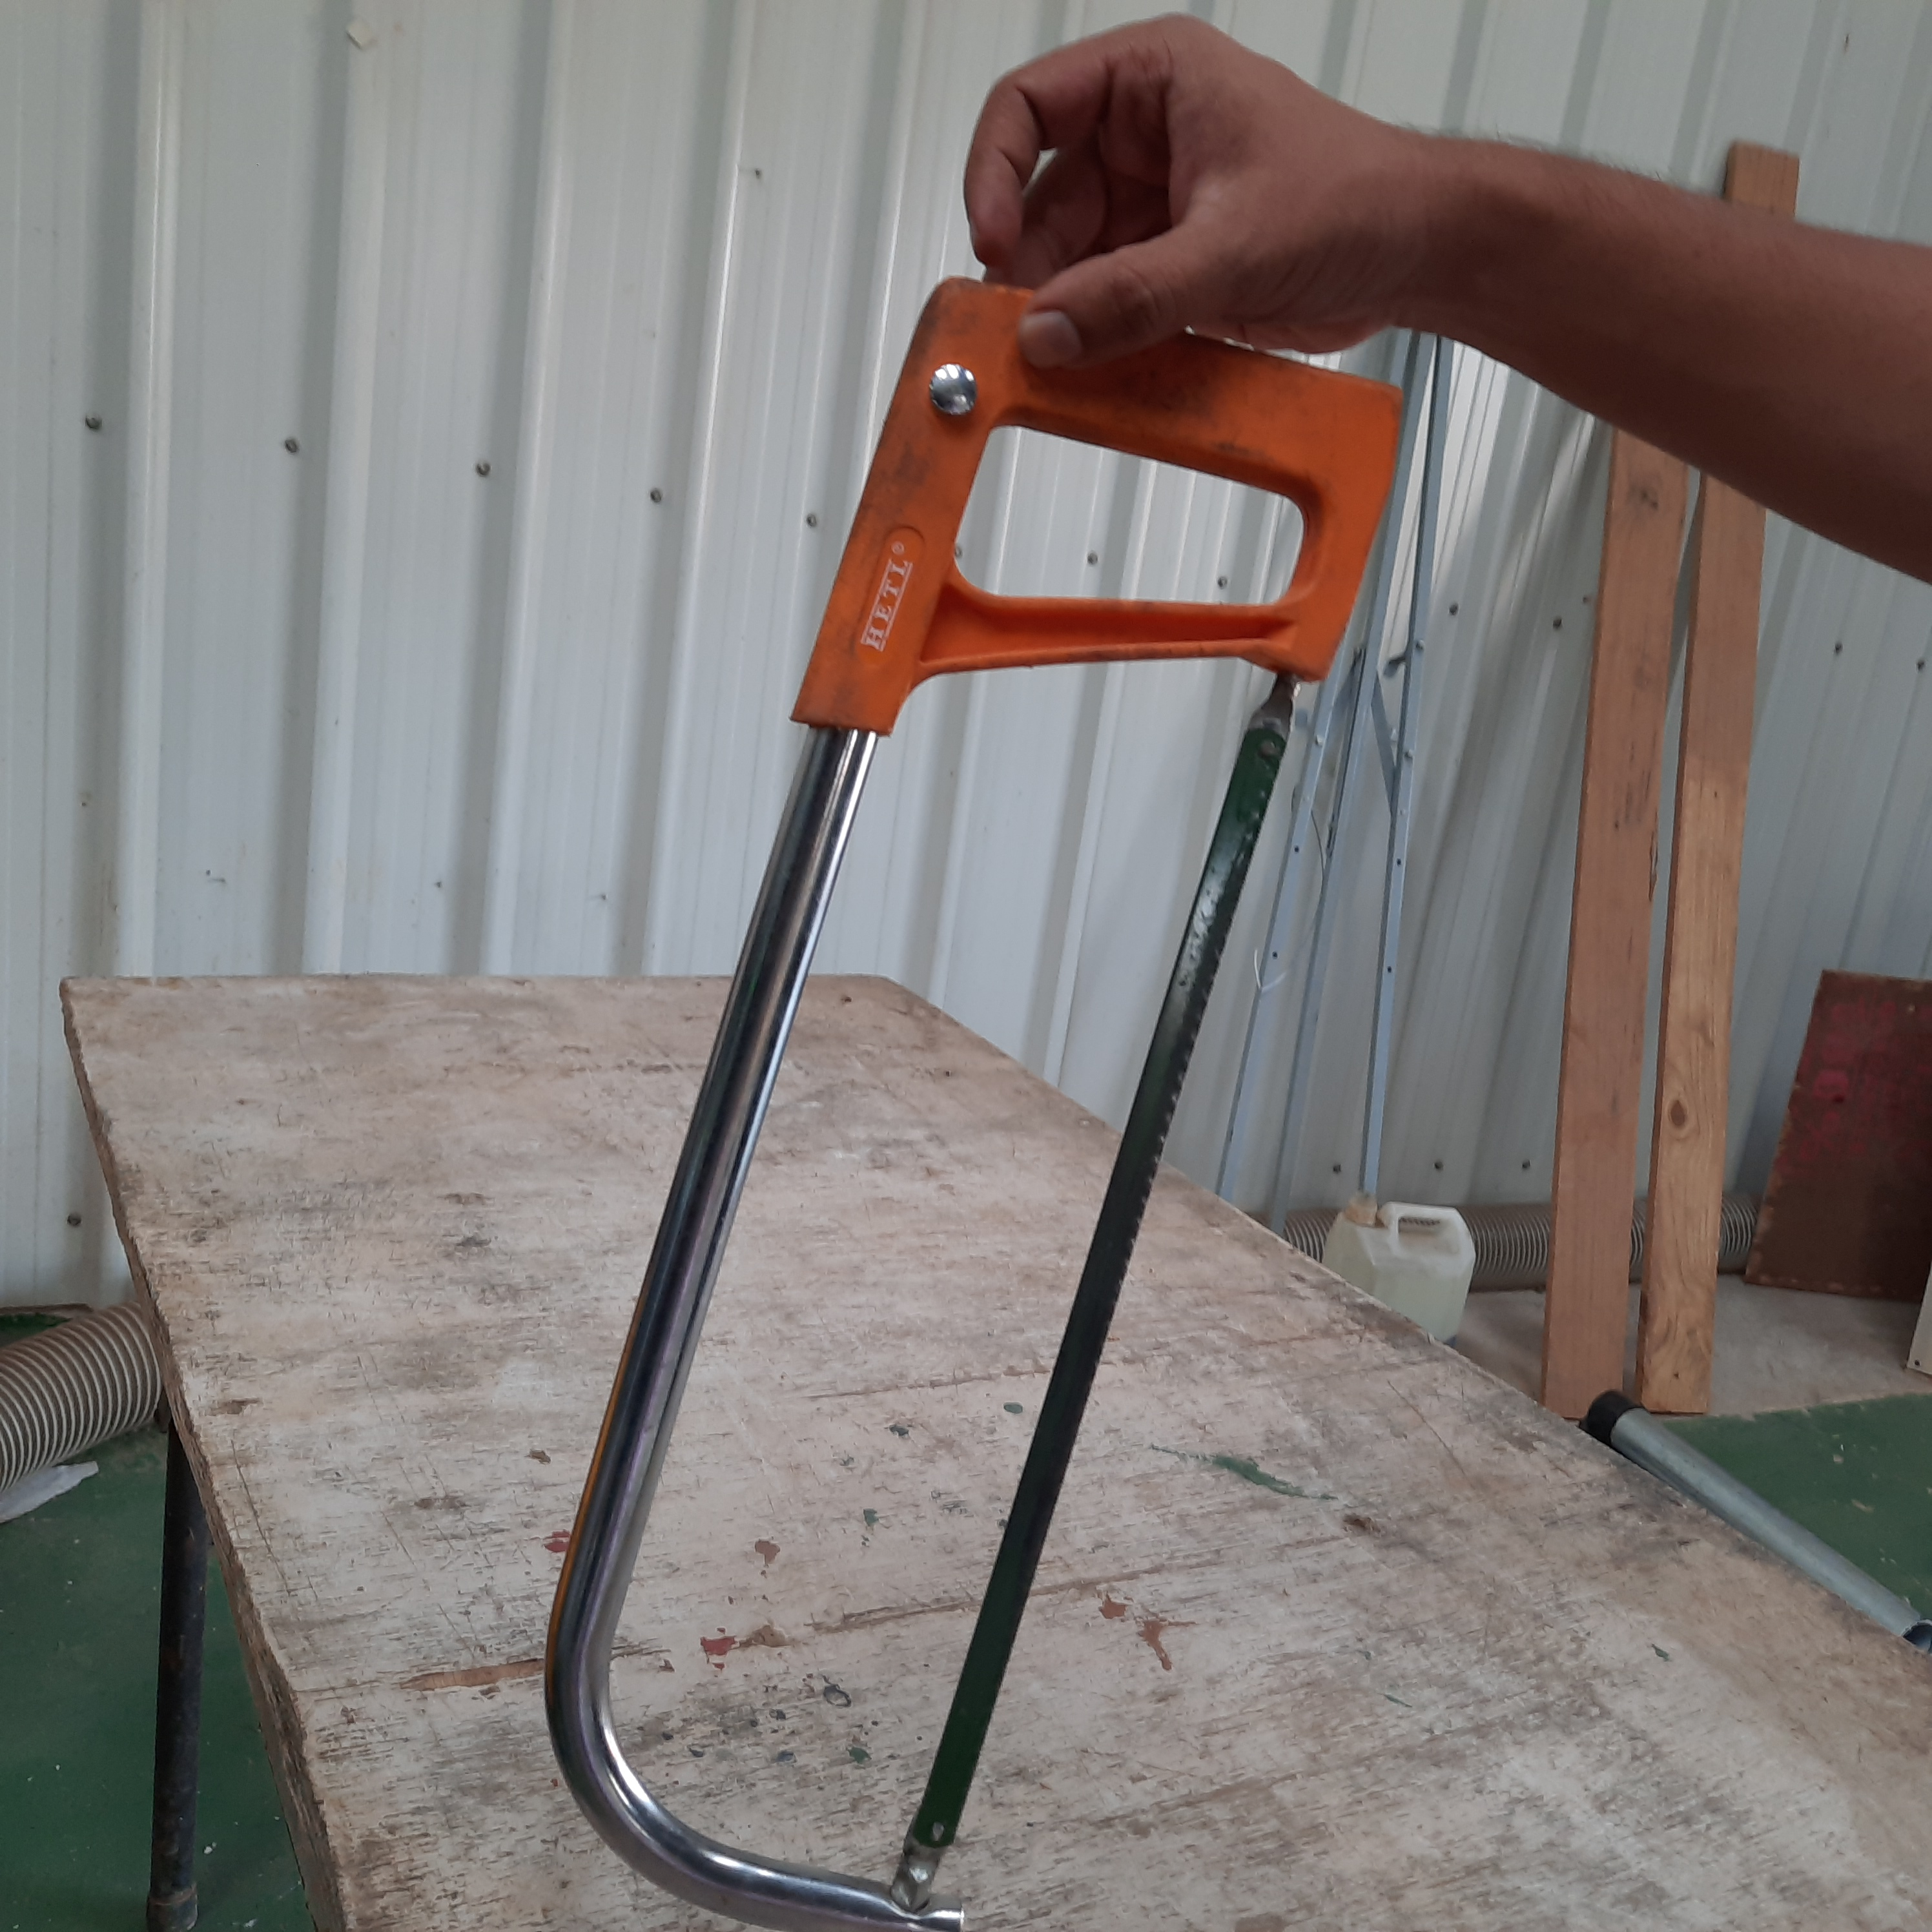Hexaframe: (524, 230, 1430, 1932)
